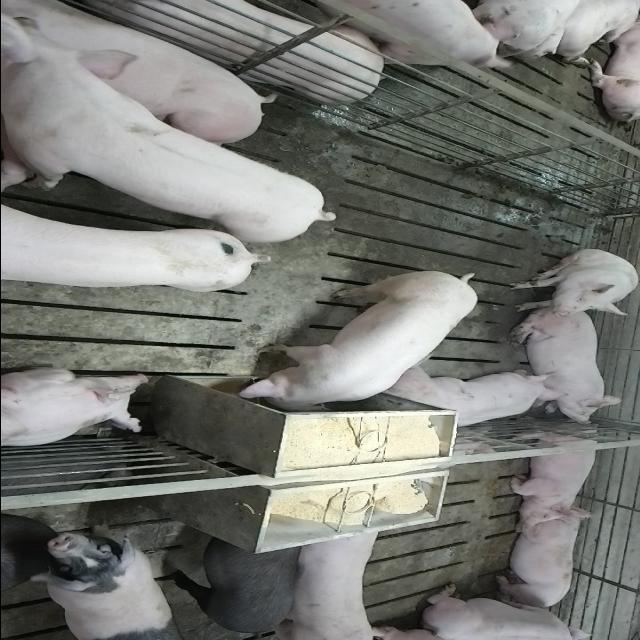Feeding: (234, 266, 478, 410)
Lateral_lying: (15, 0, 386, 102)
Sitting: (505, 250, 638, 318)
Standing: (3, 44, 347, 246), (0, 212, 267, 294), (282, 0, 520, 76), (34, 526, 178, 638), (162, 528, 302, 636), (272, 520, 384, 638)
Sternal_lying: (508, 314, 626, 424), (0, 366, 154, 448), (378, 370, 562, 431), (418, 584, 604, 638), (490, 510, 589, 611), (505, 425, 603, 523)
